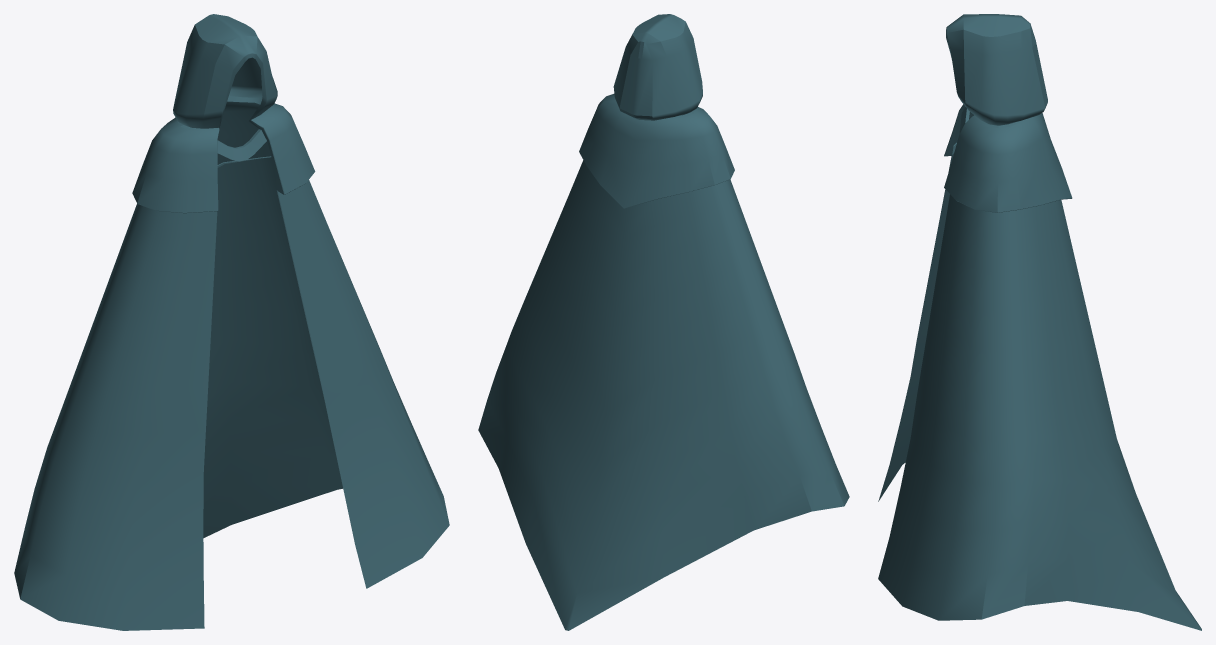
Rendered from SM_Cape.fbx.
3 renders of one model, left to right at view 1: azimuth 30°, elevation 25°; view 2: azimuth 150°, elevation 25°; view 3: azimuth 270°, elevation 25°, orthographic. The views are drawn at different scales.
Visible parts, largest first — view 1: SM_Cape; view 2: SM_Cape; view 3: SM_Cape.
Boxes of the visible parts, bbox=[...] form: SM_Cape: bbox=[14, 14, 449, 630]; SM_Cape: bbox=[478, 14, 849, 630]; SM_Cape: bbox=[878, 14, 1201, 630].
Size of the model in its own units: 1269 by 1816 by 868.
